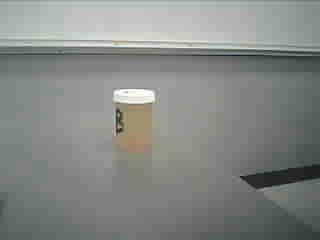Bottle B: (110, 85, 158, 158)
